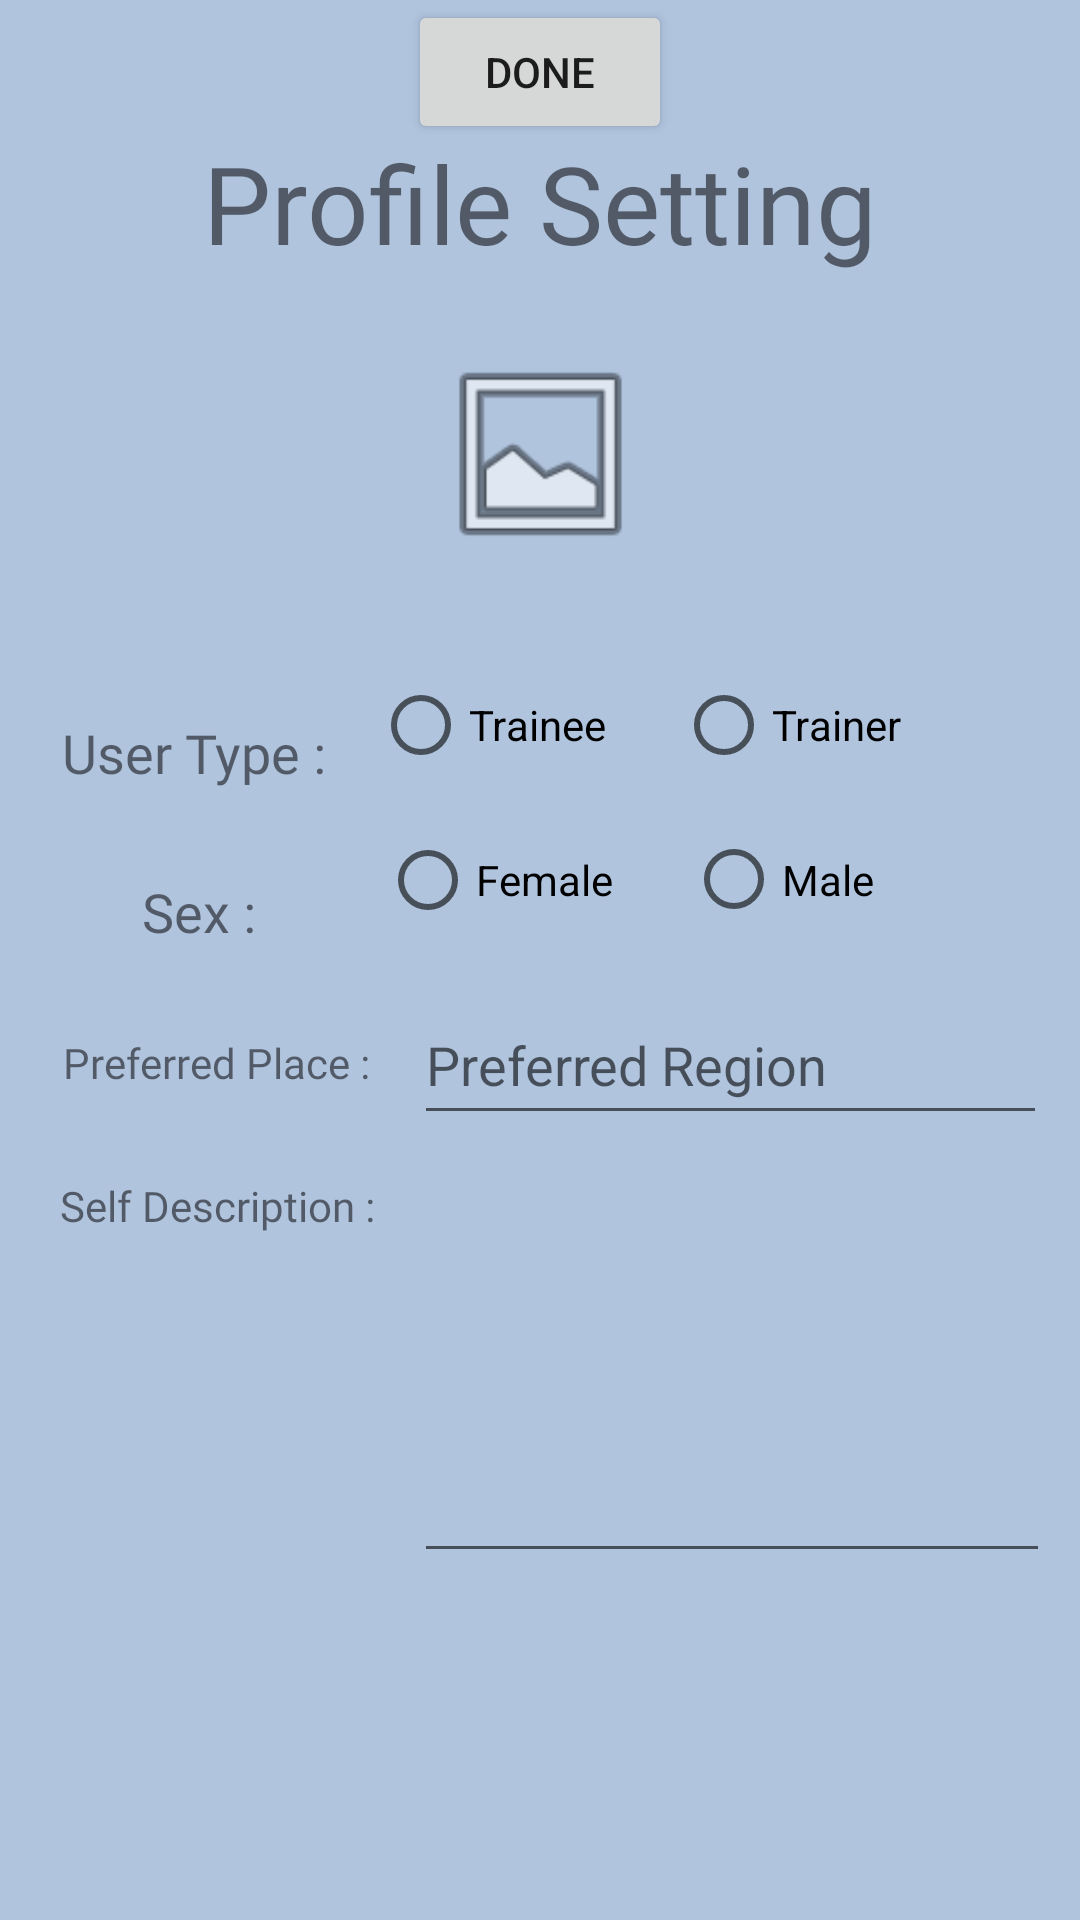

Icons on this 1080 × 1920 Android screen, each with its box as [x1=x1, y1=y1, x2=x2, y2=y2]:
gallery: [x1=459, y1=372, x2=622, y2=536]
